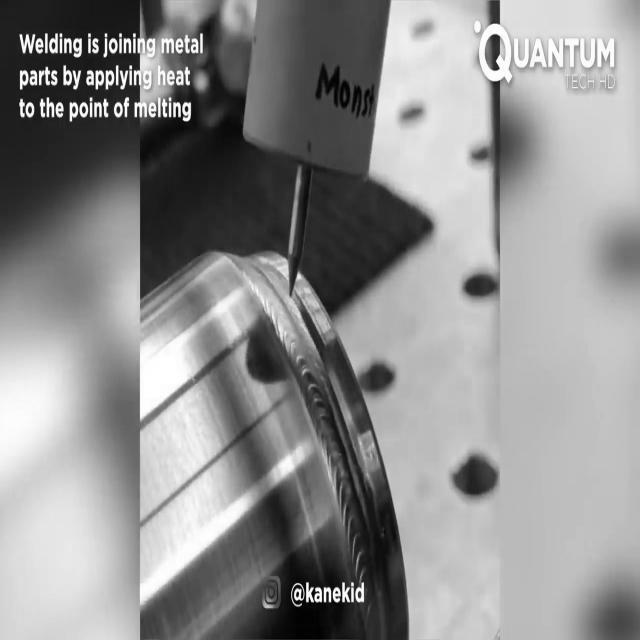Good Weld: (262, 292, 368, 564)
